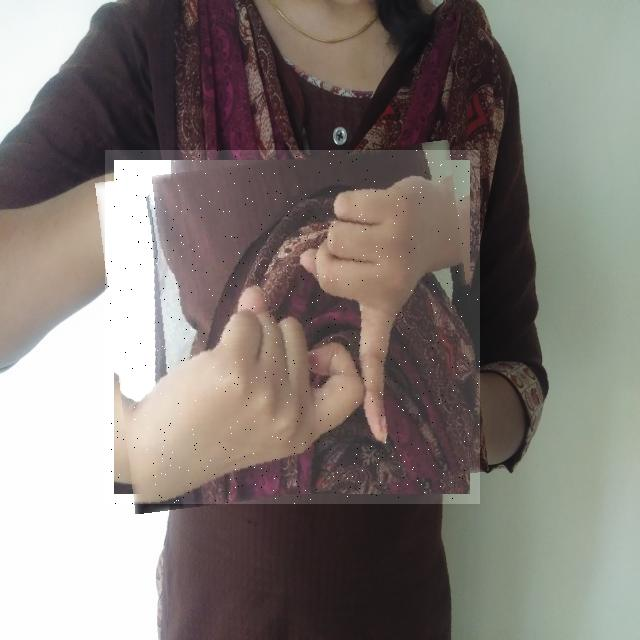K: (105, 150, 480, 504)
